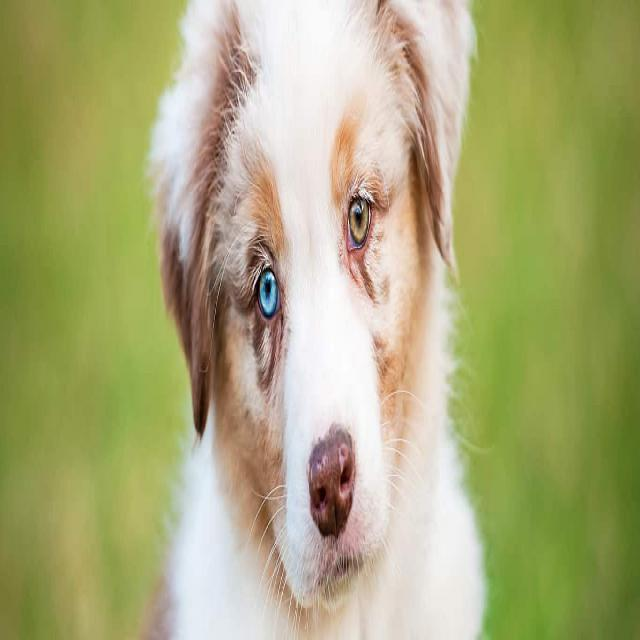eye: (344, 185, 376, 261), (251, 257, 284, 329)
